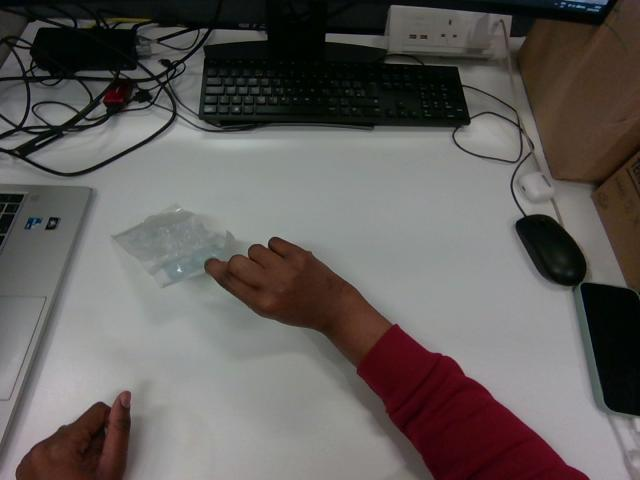gallipot: (113, 205, 233, 286)
